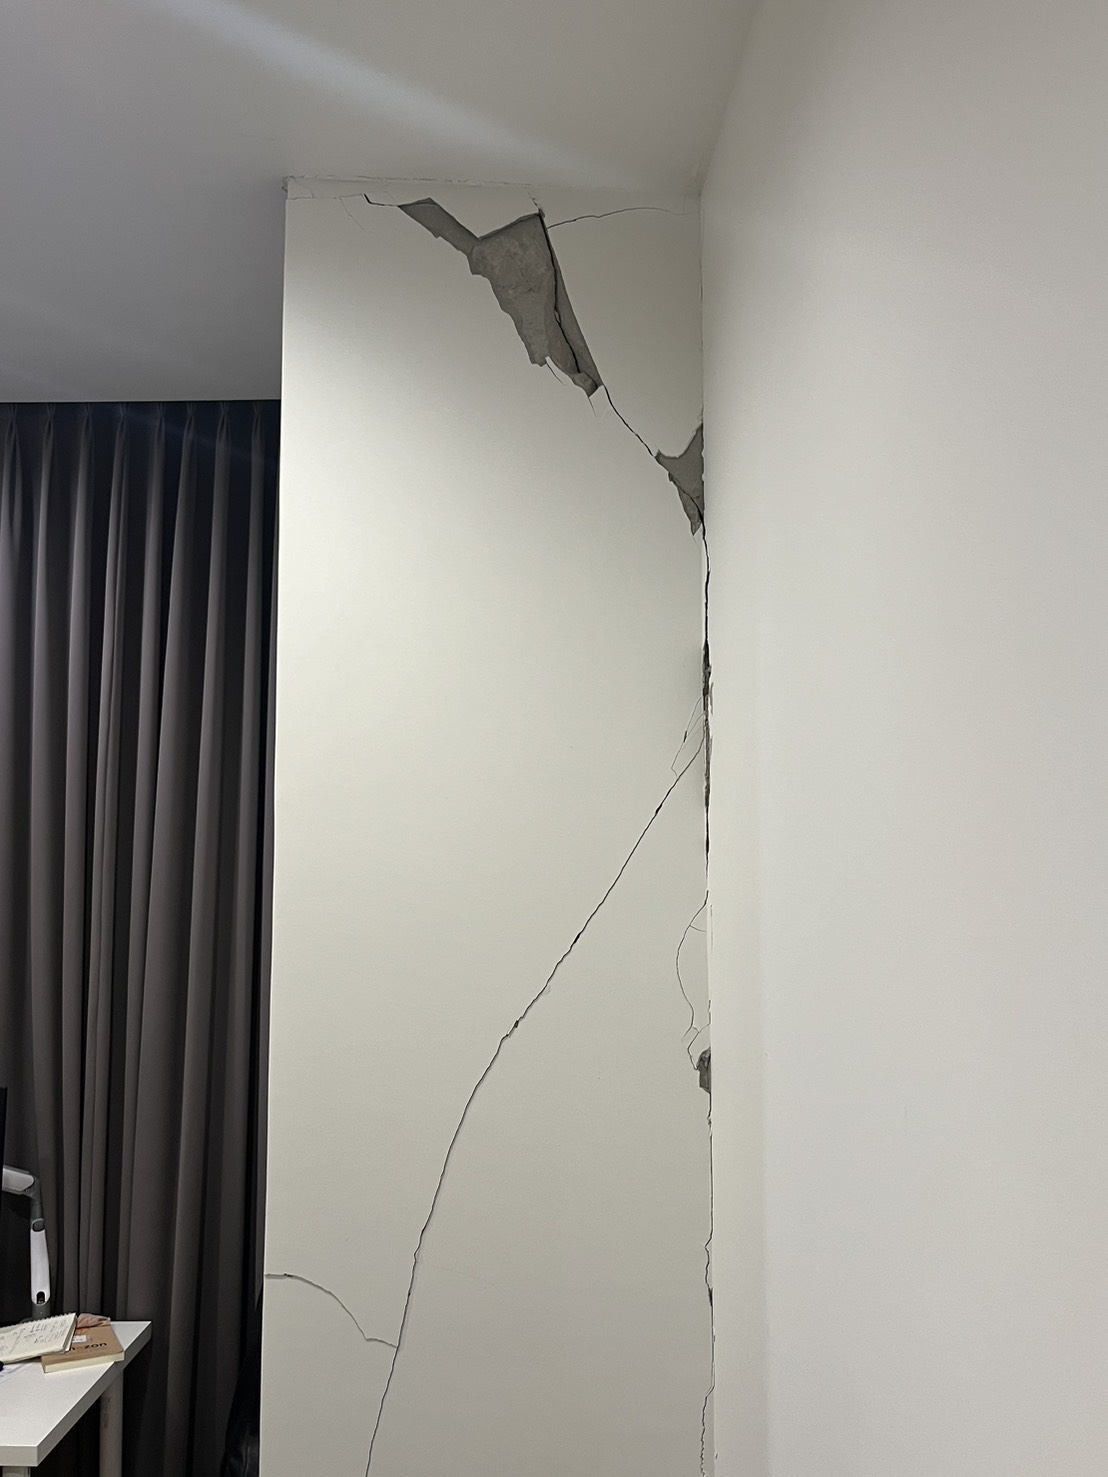High: (283, 179, 722, 1474)
